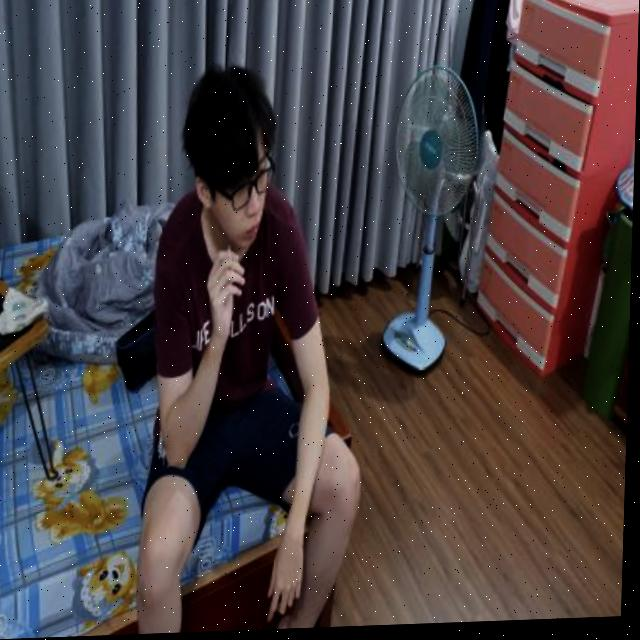cigarette: (228, 247, 235, 273)
